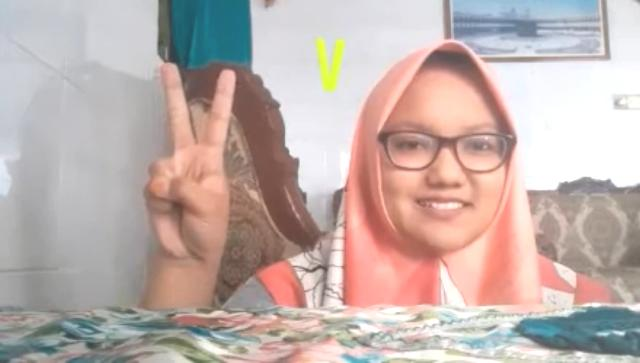V: (136, 60, 246, 262)
